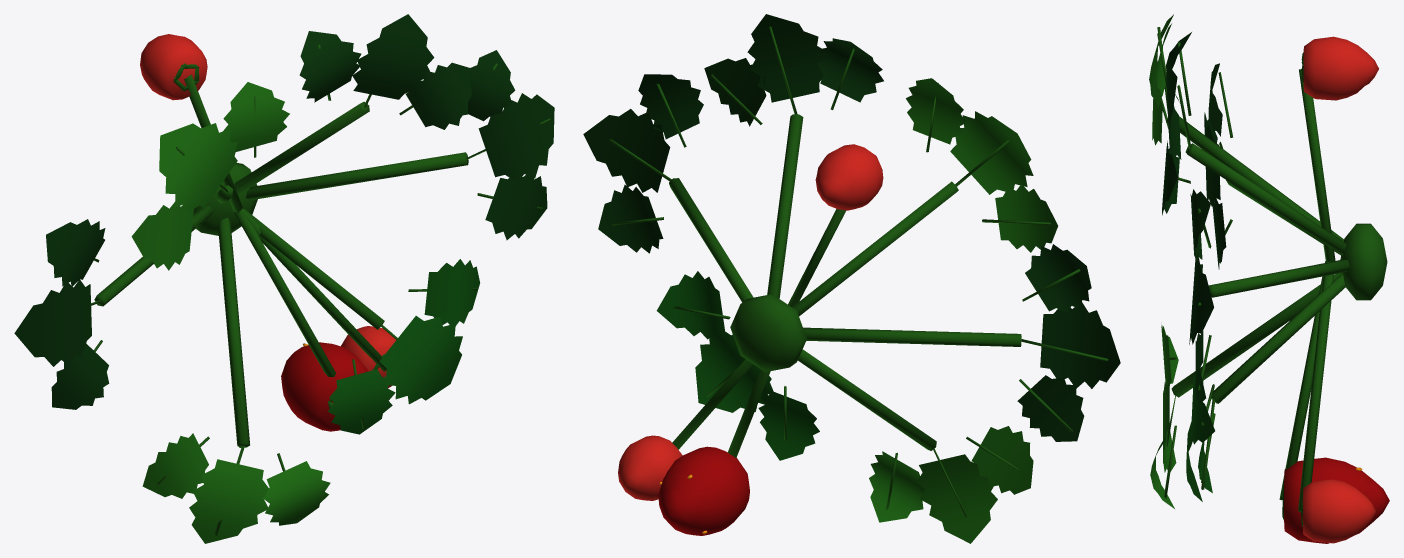
Rendered from plant_variant_04.obj.
The picture shows the model from 3 angles, left to right: view 1: azimuth 30°, elevation 25°; view 2: azimuth 150°, elevation 25°; view 3: azimuth 270°, elevation 25°; orthographic projection.
Visible parts, largest first — view 1: field_export_plant_variant_04; view 2: field_export_plant_variant_04; view 3: field_export_plant_variant_04.
Part boxes in pixels (x1,y1,x2,y2): field_export_plant_variant_04: [14, 14, 554, 543]; field_export_plant_variant_04: [583, 14, 1120, 543]; field_export_plant_variant_04: [1149, 14, 1389, 543].
Size of the model in its own units: 0.6632 by 0.5665 by 0.2533.
